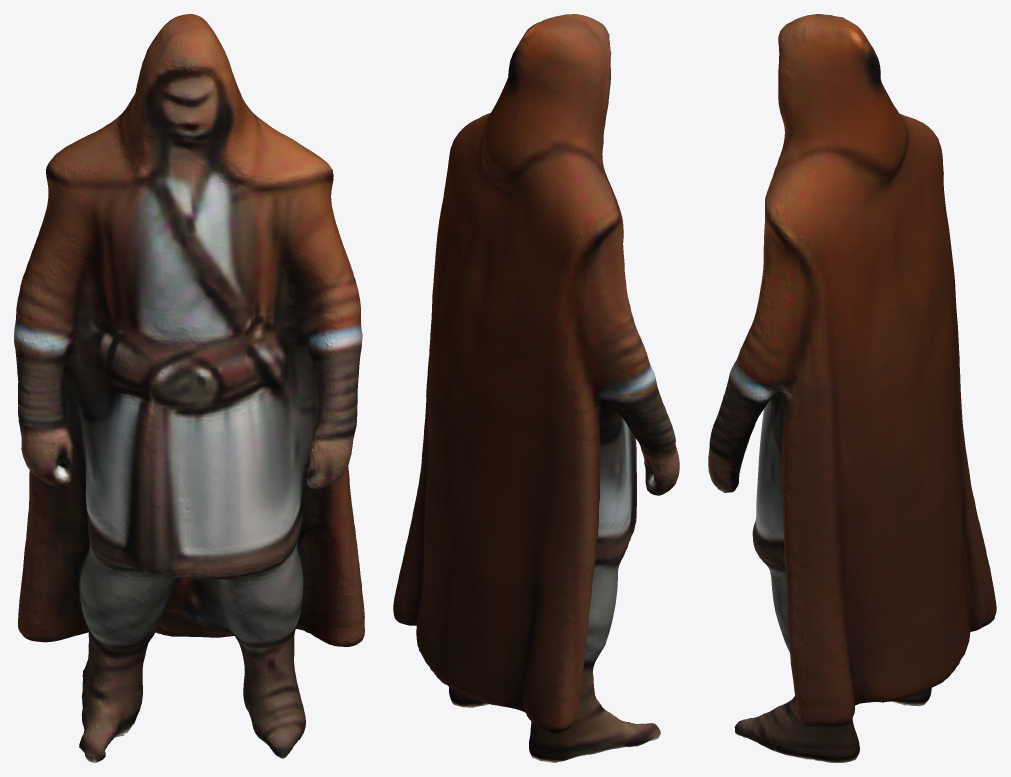
The model's file is Alibaba.obj.
3 views of the same model, side by side, from view 1: azimuth 30°, elevation 25°; view 2: azimuth 150°, elevation 25°; view 3: azimuth 270°, elevation 25° (orthographic). The views are drawn at different scales.
Size of the model in its own units: 0.4743 by 1.05 by 0.395.
1 material, 1 textured.
